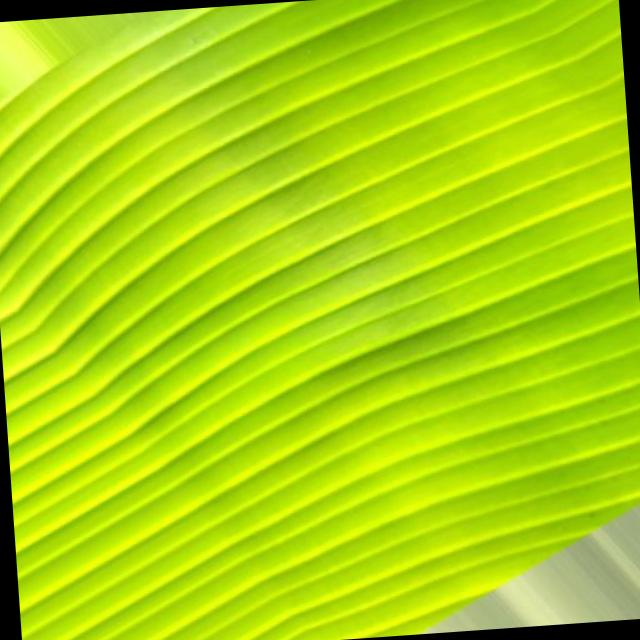Banana_Healthy: (1, 16, 610, 568)
